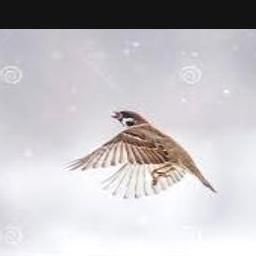Sparrow: (64, 110, 217, 199)
